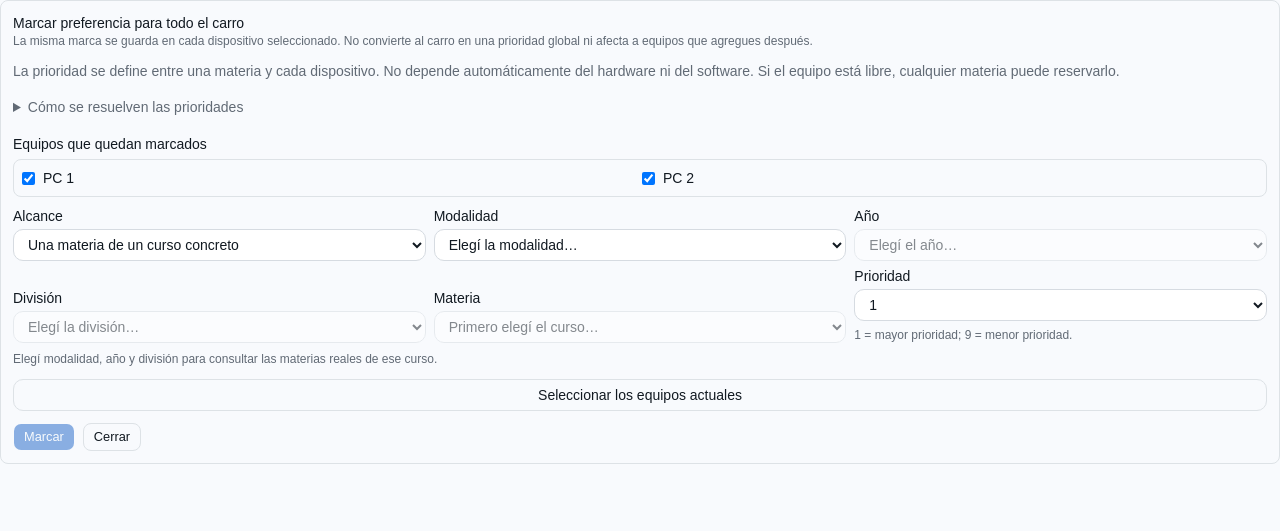
Scenario: informa cuántos equipos quedaron marcados y cuántos ya lo estaban
Expected: the text "PC 1" is shown, [22,170,74,186]
Select "Regla general para varios cursos o espacios" in the dropdown labelled "Alcance" at [219, 245], box [13,229,426,261]
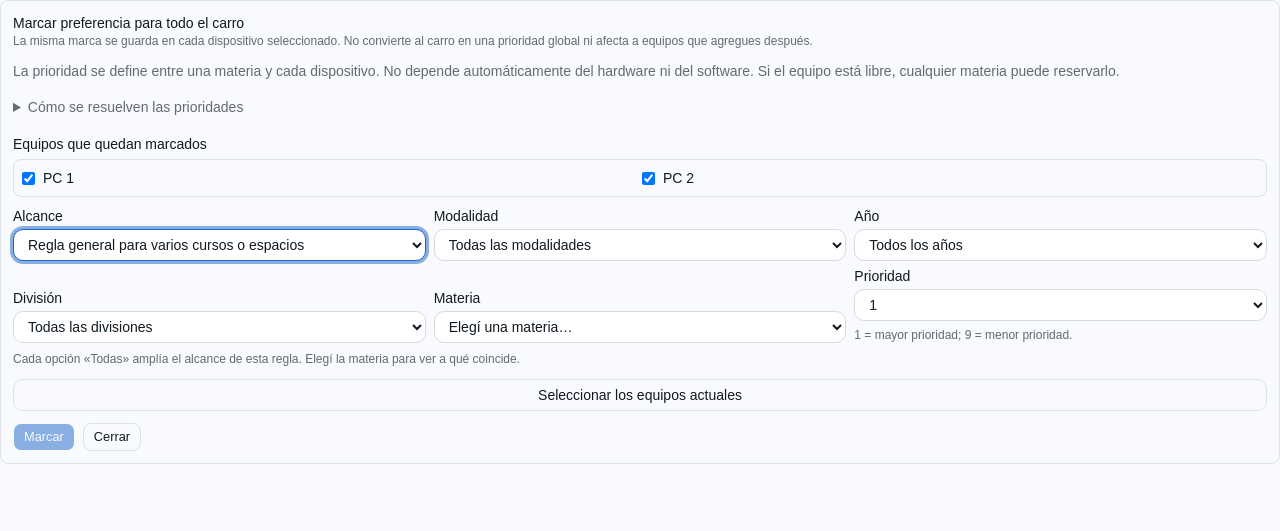
Select "Dibujo Técnico" in the dropdown labelled "Materia" at [640, 327], box [434,311,846,343]
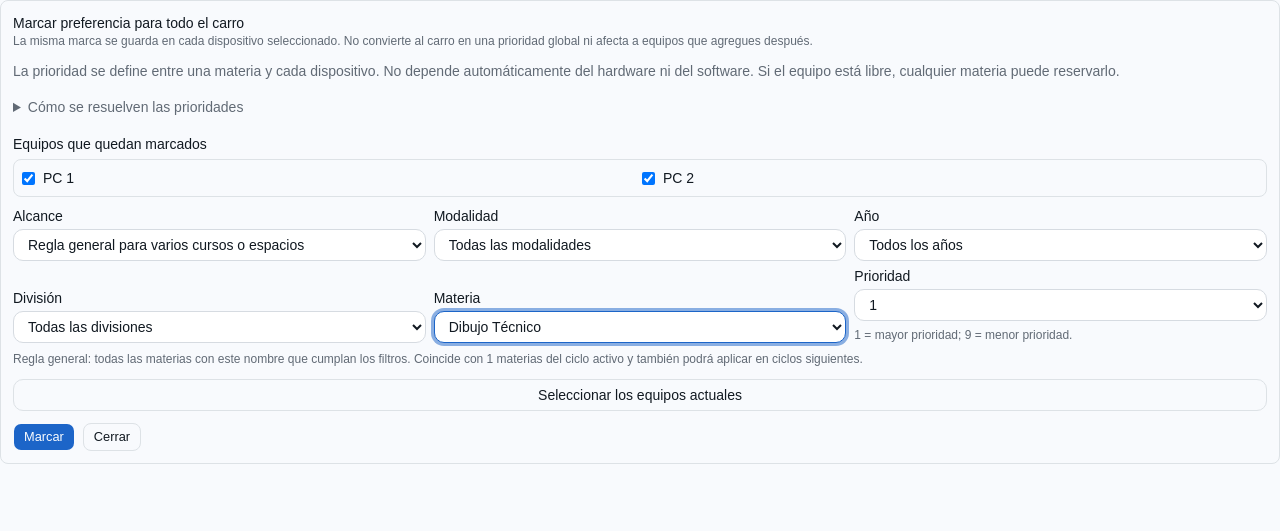
Click the button "Marcar" at [44, 437], box [13,423,75,451]
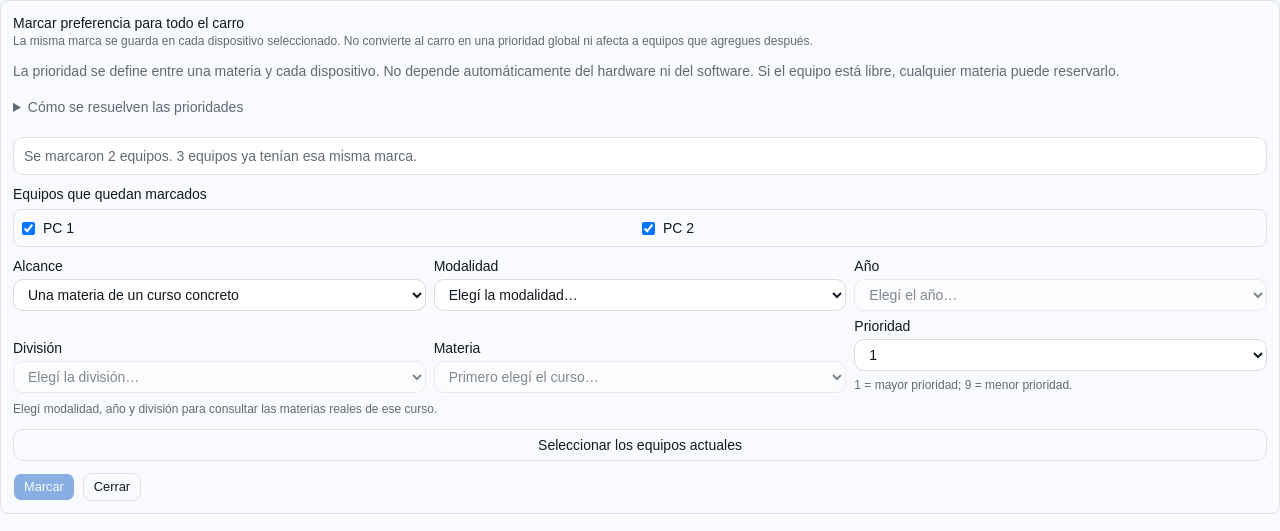
Expected: the text "Se marcaron 2 equipos. 3 equipos ya tenían esa misma marca." is shown, [24,148,417,164]
